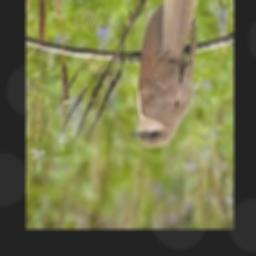Cuckoo: (129, 0, 199, 149)
